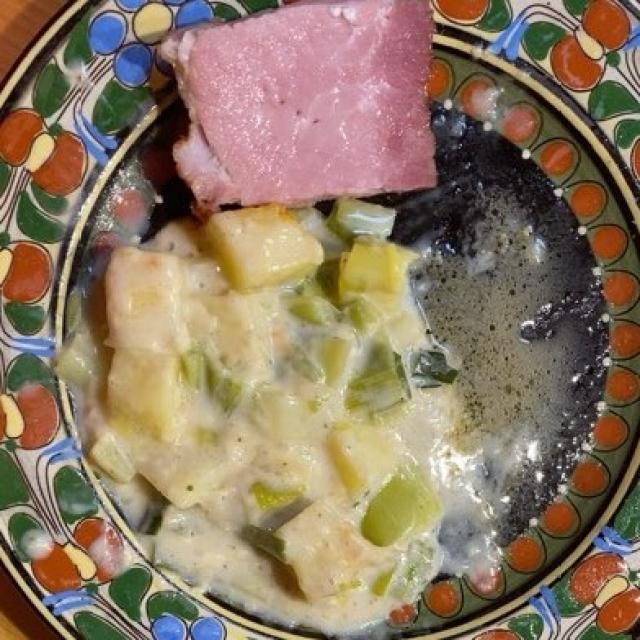baked-potato: (109, 217, 368, 621)
leek: (190, 197, 453, 603)
